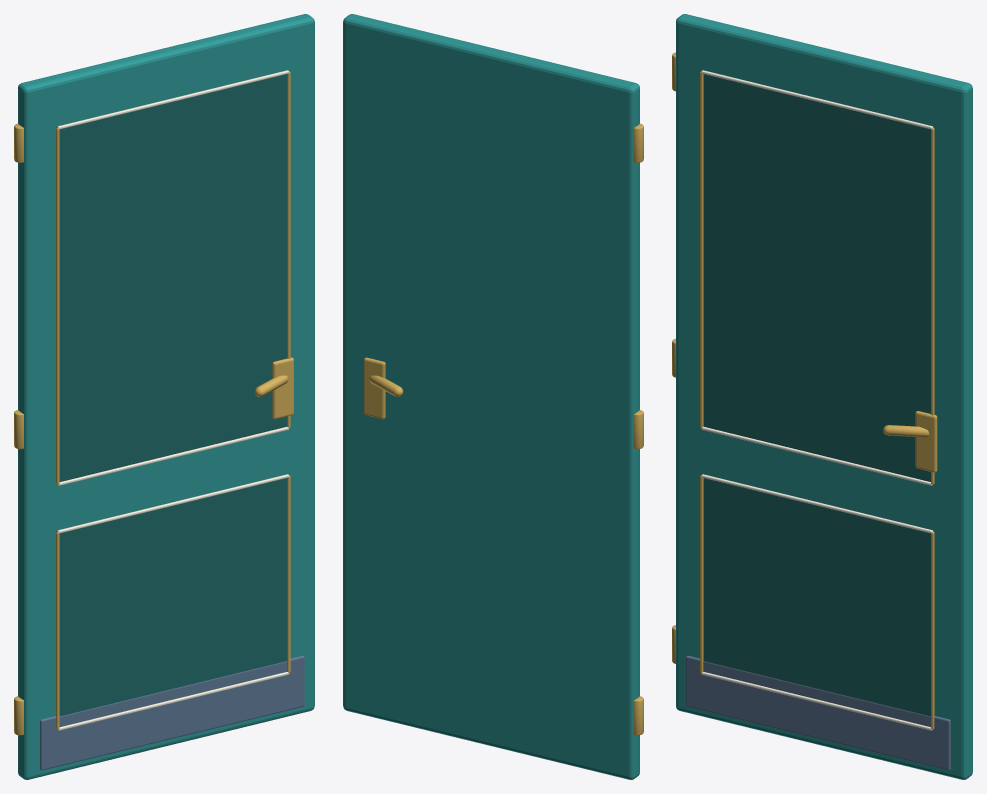
Rendered from visitor_door.glb.
The picture shows the model from 3 angles, left to right: view 1: azimuth 30°, elevation 25°; view 2: azimuth 150°, elevation 25°; view 3: azimuth 330°, elevation 25°; orthographic projection.
Visible parts, largest first — view 1: Recessed_panel.001, Teal_leaf, Recessed_panel, Kickplate, Inset_vertical_bead.002, Inset_vertical_bead.003, Lock_plate.001, Inset_horizontal_bead.001, Inset_horizontal_bead.003, Inset_horizontal_bead.002, Inset_horizontal_bead, Inset_vertical_bead (+1 smaller); view 2: Teal_leaf, Lock_plate; view 3: Recessed_panel.001, Teal_leaf, Recessed_panel, Kickplate, Inset_vertical_bead.002, Lock_plate.001, Inset_vertical_bead.003, Inset_horizontal_bead.001, Inset_horizontal_bead.003, Inset_horizontal_bead.002, Inset_horizontal_bead, Inset_vertical_bead.001 (+1 smaller).
Boxes of the visible parts, <box> form: Recessed_panel.001: <box>56,74,286,481</box>; Teal_leaf: <box>18,14,314,779</box>; Recessed_panel: <box>56,478,286,716</box>; Kickplate: <box>40,655,304,770</box>; Inset_vertical_bead.002: <box>56,128,59,484</box>; Inset_vertical_bead.003: <box>287,71,290,428</box>; Lock_plate.001: <box>272,357,293,419</box>; Inset_horizontal_bead.001: <box>57,474,289,533</box>; Inset_horizontal_bead.003: <box>57,70,289,129</box>; Inset_horizontal_bead.002: <box>58,427,289,485</box>; Inset_horizontal_bead: <box>58,672,289,730</box>; Inset_vertical_bead: <box>56,532,59,729</box>; Teal_leaf: <box>343,14,639,779</box>; Lock_plate: <box>364,357,385,419</box>; Recessed_panel.001: <box>703,74,934,481</box>; Teal_leaf: <box>676,14,972,779</box>; Recessed_panel: <box>703,478,934,716</box>; Kickplate: <box>686,655,950,770</box>; Inset_vertical_bead.002: <box>700,71,703,428</box>; Lock_plate.001: <box>915,411,937,472</box>; Inset_vertical_bead.003: <box>931,128,934,484</box>; Inset_horizontal_bead.001: <box>701,474,933,533</box>; Inset_horizontal_bead.003: <box>701,70,933,129</box>; Inset_horizontal_bead.002: <box>701,426,932,485</box>; Inset_horizontal_bead: <box>701,672,932,730</box>; Inset_vertical_bead.001: <box>931,532,934,729</box>.
Size of the model in its own units: 0.978 by 2.18 by 0.1997.
